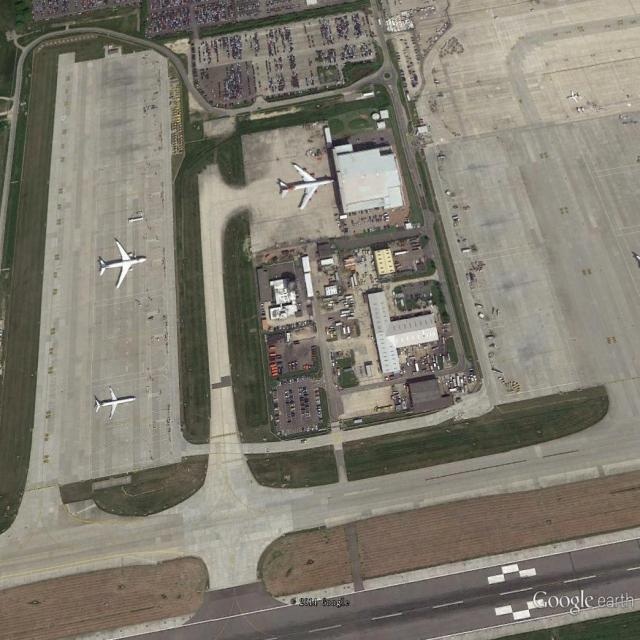aircraft: (277, 162, 339, 213), (98, 238, 150, 293), (95, 386, 139, 423), (568, 89, 584, 106)
